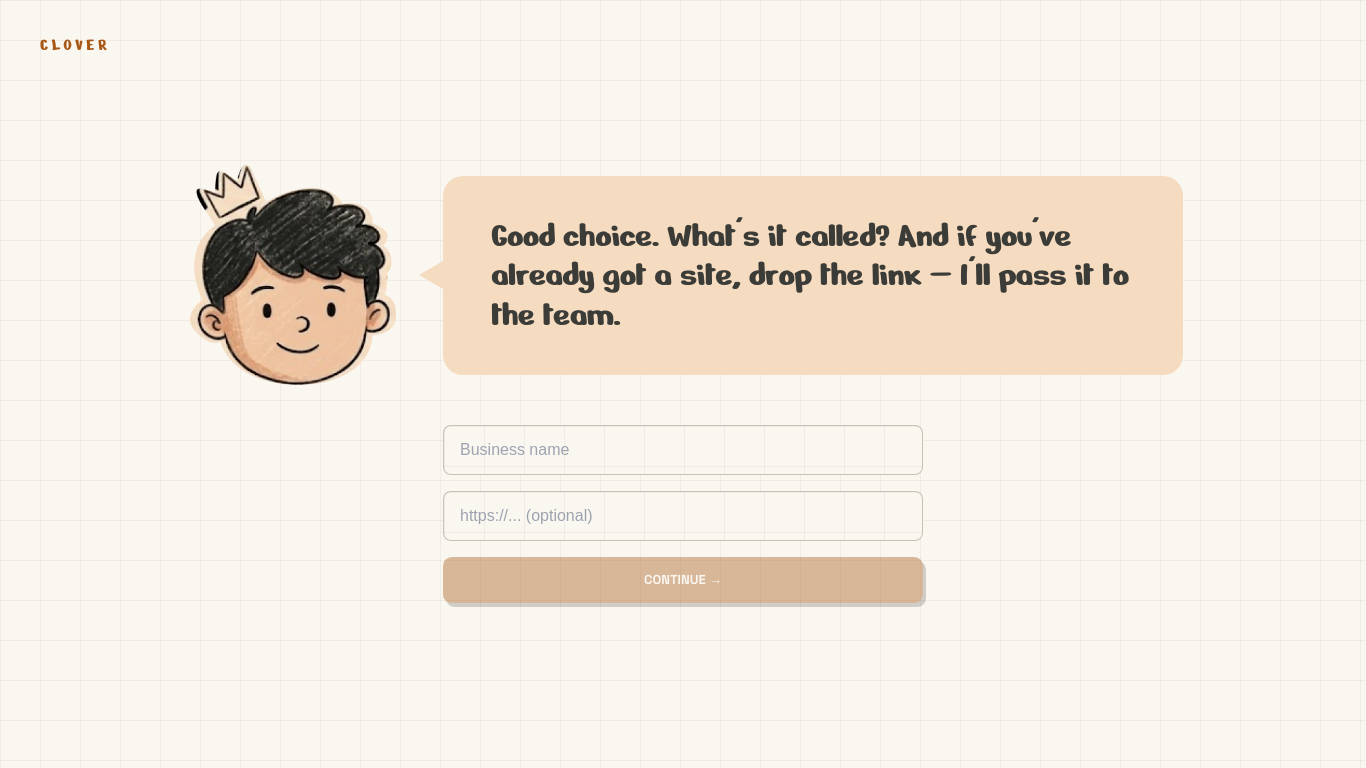
Test case: CONTINUE enables after typing a name
The image size is (1366, 768).
Type "Bella Vita" into the field with placeholder "Business name".
click(683, 450); type("Bella Vita")  # box [443, 425, 923, 475]
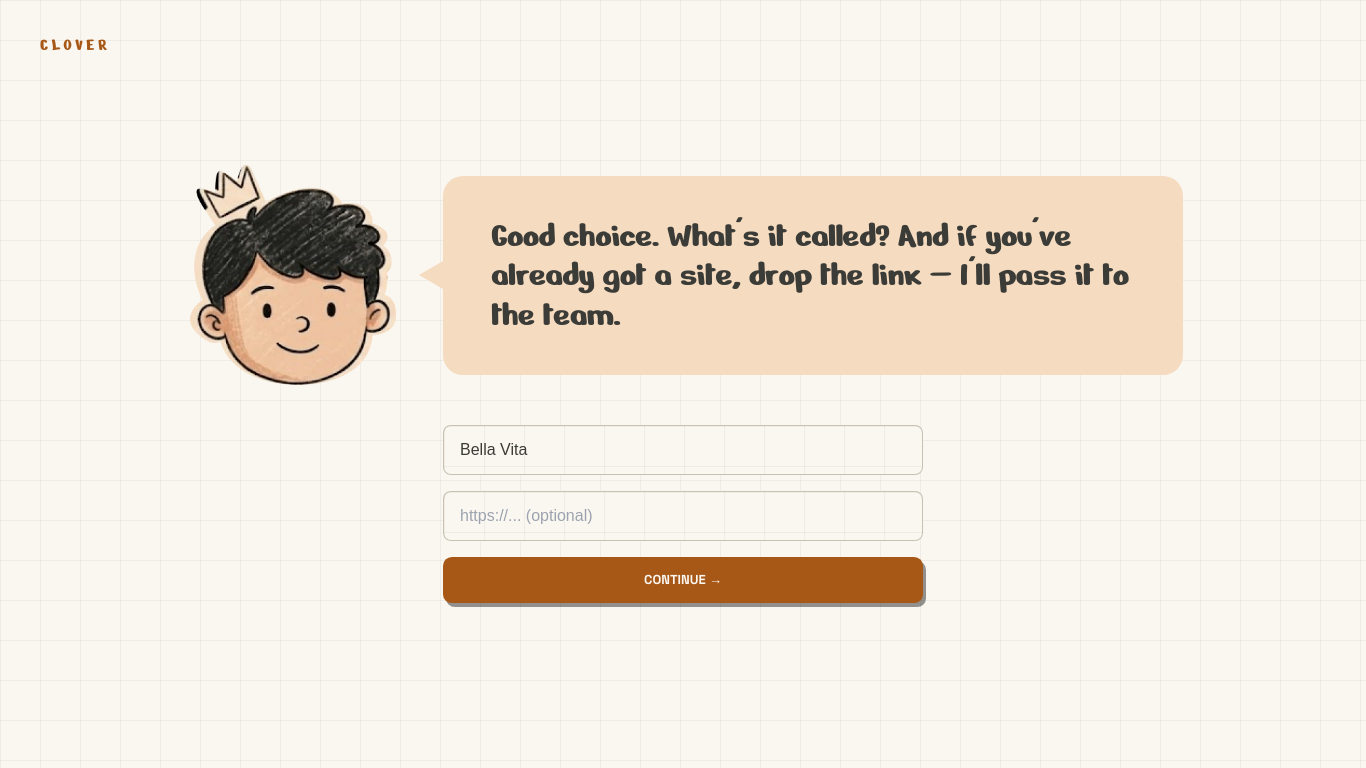
expect the button "CONTINUE →" is enabled: met, box [443, 557, 923, 603]
